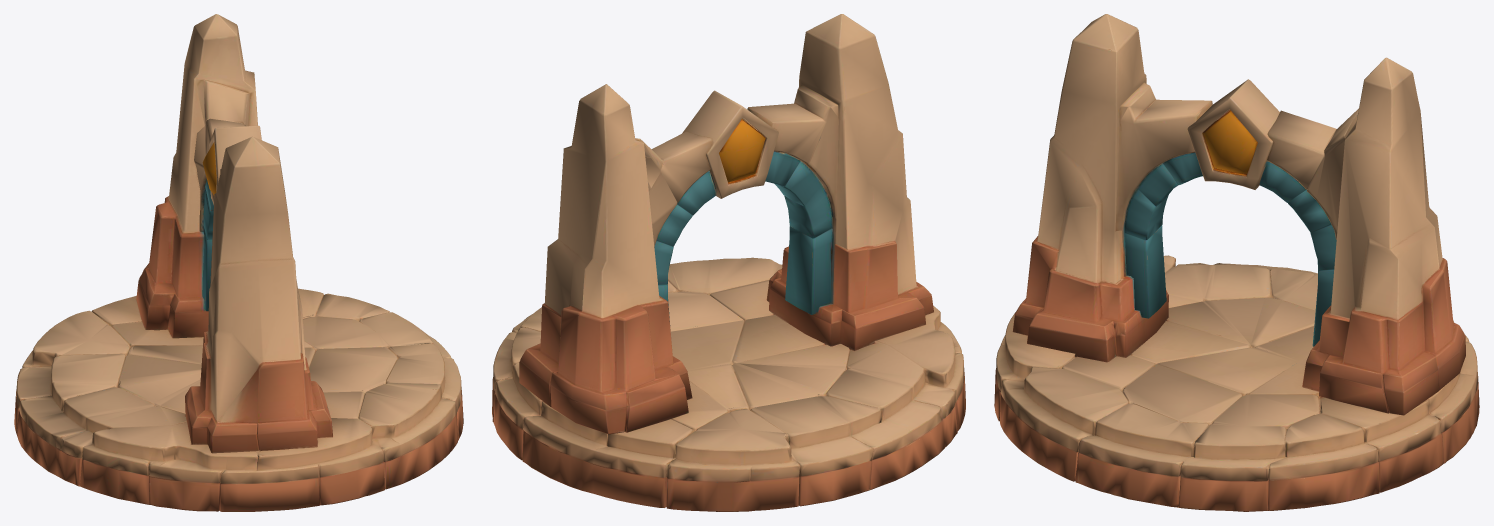
The model's file is twin-pact-gate.glb.
The picture shows the model from 3 angles, left to right: view 1: azimuth 30°, elevation 25°; view 2: azimuth 150°, elevation 25°; view 3: azimuth 270°, elevation 25°; orthographic projection. The views are drawn at different scales.
Parts seen in each view (by area): view 1: tripo_node_371dbf64-8ee1-48a1-817e-9650f35a21f0; view 2: tripo_node_371dbf64-8ee1-48a1-817e-9650f35a21f0; view 3: tripo_node_371dbf64-8ee1-48a1-817e-9650f35a21f0.
Boxes of the visible parts, x1=… form: tripo_node_371dbf64-8ee1-48a1-817e-9650f35a21f0: x1=14, y1=14, x2=463, y2=511; tripo_node_371dbf64-8ee1-48a1-817e-9650f35a21f0: x1=492, y1=14, x2=965, y2=511; tripo_node_371dbf64-8ee1-48a1-817e-9650f35a21f0: x1=994, y1=14, x2=1479, y2=511.
Bounding box in the file's own units: 1 × 0.8613 × 1.
1 material, 1 textured.
